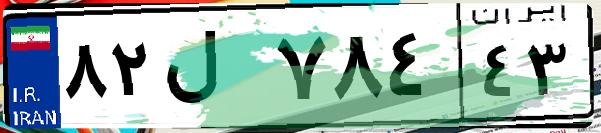2: (110, 28, 158, 98)
3: (525, 38, 570, 115)
4: (385, 28, 445, 110), (475, 38, 525, 113)
7: (270, 28, 330, 110)
8: (330, 28, 385, 110), (57, 26, 110, 100)
ل: (158, 20, 270, 120)
